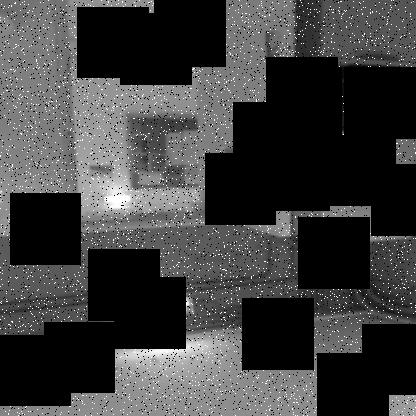Porte: (55, 0, 297, 239)
